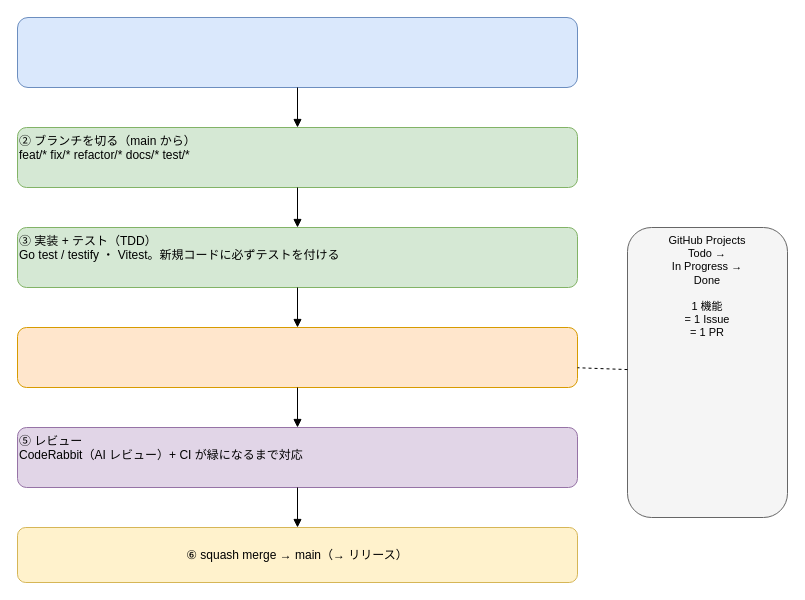
Some shapes in this 805 by 600 pixel diagram are drawn without their labels. The centre of each missing label's shape, as x and y in pixels:
"① 起票 task テンプレから起票。大きめの機能・アーキ変更は着手前に方針を合意" goes at point 297,52.
"④ PR 作成 概要 / 変更内容 / テスト / 関連 Issue。Closes #NN で Issue に紐付け" goes at point 297,357.
